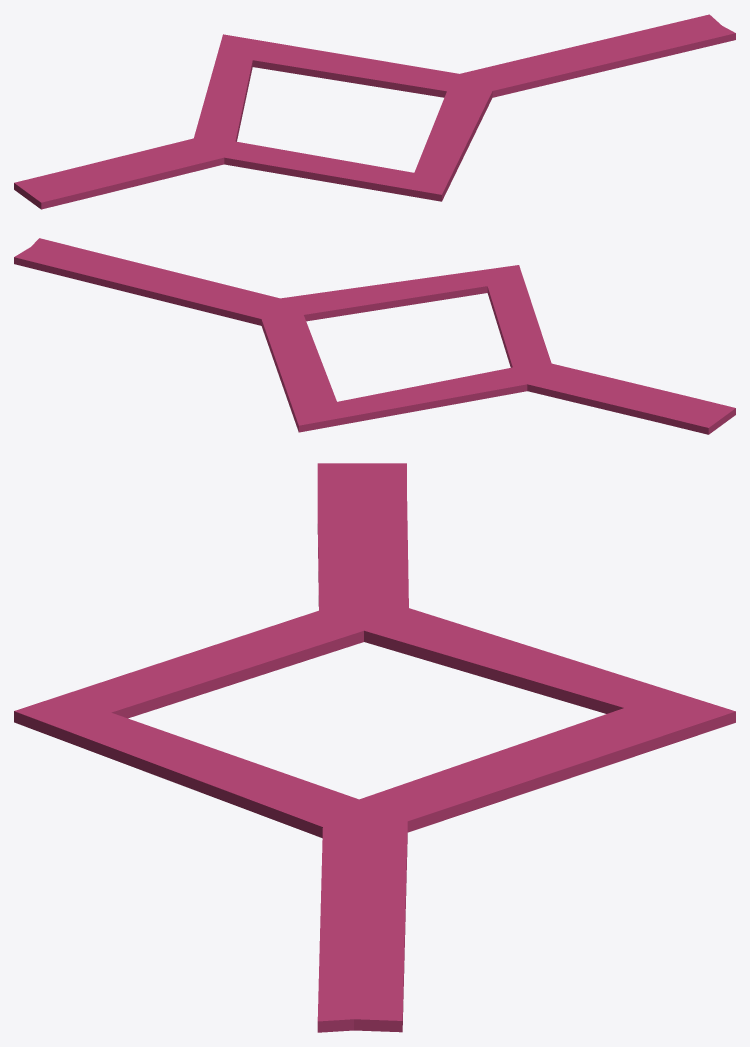
The model's file is yol5.fbx.
3 views of the same model, one above another, from view 1: azimuth 30°, elevation 25°; view 2: azimuth 150°, elevation 25°; view 3: azimuth 270°, elevation 25° (orthographic). The views are drawn at different scales.
Parts seen in each view (by area): view 1: Plane.013; view 2: Plane.013; view 3: Plane.013.
Part boxes in pixels (x1,y1,x2,y2): Plane.013: [14, 14, 735, 209]; Plane.013: [14, 238, 735, 434]; Plane.013: [14, 463, 735, 1032].
Size of the model in its own units: 4679 by 44.1 by 2557.
